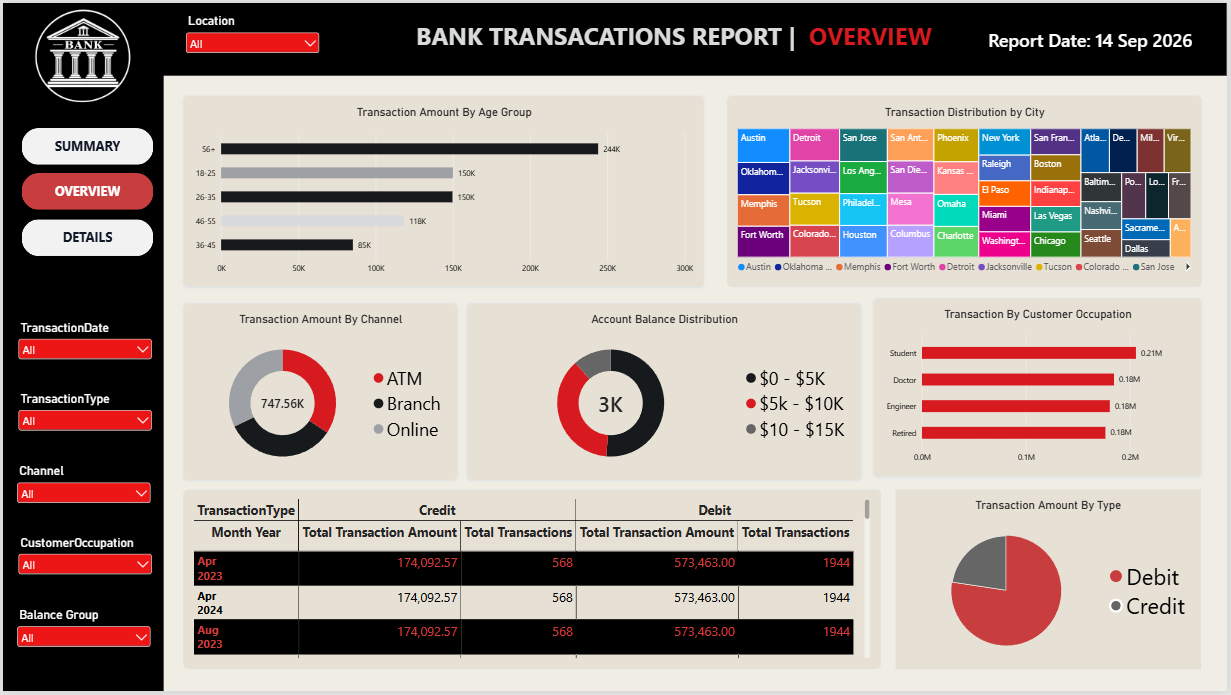

The dashboard page shown, as its layout file describes it:
{"tool":"powerbi","page":{"name":"Overview","canvas":[1920,1080],"ordinal":1},"visuals":[{"type":"pivotTable","fields":{"Columns":["Bank_Transactions.TransactionType"],"Rows":["DateTable.Month Year"],"Values":["Measures (2).Total Transaction Amount","Measures (2).Total Transactions"]},"box":[282.3,763.7,1094.8,282.3],"z":0},{"type":"donutChart","title":"Transaction Amount By Channel","fields":{"Category":["Bank_Transactions.Channel"],"Y":["Measures (2).Total Transaction Amount"]},"box":[282.3,470.5,430.7,278.7],"z":3000},{"type":"clusteredBarChart","title":"Transaction By Customer Occupation","fields":{"Category":["Bank_Transactions.CustomerOccupation"],"Y":["Measures (2).Total Transaction Amount"]},"box":[1364.5,463.3,515.8,280.5],"z":4000},{"type":"clusteredBarChart","title":"Transaction Amount By Age Group","fields":{"Category":["Bank_Transactions.Age Group"],"Y":["Measures (2).Total Transaction Amount"]},"box":[282.3,144.8,818,300.4],"z":5000},{"type":"donutChart","title":"Account Balance Distribution","fields":{"Category":["Bank_Transactions.Balance Group"],"Y":["Measures (2).Total Transactions"]},"box":[727.5,470.5,618.9,278.7],"z":6000},{"type":"shape","box":[0,0,252,1080.4],"z":7000},{"type":"shape","box":[251.5,0,1668.5,114],"z":8000},{"type":"textbox","box":[647.9,25.3,810.7,61.5],"z":9000},{"type":"image","box":[7.2,9,237.1,150.2],"z":10000},{"type":"slicer","fields":{"Values":["Bank_Transactions.TransactionType"]},"box":[19.9,610.3,219,81.4],"z":10001},{"type":"slicer","fields":{"Values":["Bank_Transactions.Channel"]},"box":[18.1,723,219,81.4],"z":10002},{"type":"slicer","fields":{"Values":["Bank_Transactions.CustomerOccupation"]},"box":[19.9,835.6,219,81.4],"z":10003},{"type":"slicer","fields":{"Values":["Bank_Transactions.Balance Group"]},"box":[18.1,948.3,219,76],"z":10004},{"type":"slicer","fields":{"Values":["Bank_Transactions.Location"]},"box":[282.3,18.1,219,76],"z":10005},{"type":"slicer","fields":{"Values":["Bank_Transactions.TransactionDate"]},"box":[19.9,497.7,219,81.4],"z":10006},{"type":"actionButton","box":[29,195.4,206.3,57.9],"z":10007},{"type":"actionButton","box":[29,266,206.3,57.9],"z":10008},{"type":"actionButton","box":[29,338.4,206.3,57.9],"z":10009},{"type":"pieChart","title":" Transaction Amount By Type","fields":{"Category":["Bank_Transactions.TransactionType"],"Y":["Measures (2).Total Transactions"]},"box":[1400.7,763.7,479.6,282.3],"z":10010},{"type":"treemap","title":"Transaction Distribution by City","fields":{"Group":["Bank_Transactions.Location"],"Values":["Measures (2).Total Transaction Amount"]},"box":[1134.7,144.8,745.6,300.4],"z":10011},{"type":"cardVisual","fields":{"Data":["Measures (2).Report Date"]},"box":[1529.2,9,361.9,95.9],"z":10012}]}

Visuals, with their boxes in screenshot pixels (x1, y1, x2, y2), scaled from the page's 1920x1080 canvas onto the 1231x695 screenshot:
pivotTable - Bank_Transactions.TransactionType x DateTable.Month Year: 181, 491, 883, 673
"Transaction Amount By Channel" donutChart: 181, 303, 457, 482
"Transaction By Customer Occupation" clusteredBarChart: 875, 298, 1206, 479
"Transaction Amount By Age Group" clusteredBarChart: 181, 93, 705, 286
"Account Balance Distribution" donutChart: 466, 303, 863, 482
shape: 0, 0, 162, 694
shape: 161, 0, 1230, 73
textbox: 415, 16, 935, 56
image: 5, 6, 157, 102
slicer - Bank_Transactions.TransactionType: 13, 393, 153, 445
slicer - Bank_Transactions.Channel: 12, 465, 152, 518
slicer - Bank_Transactions.CustomerOccupation: 13, 538, 153, 590
slicer - Bank_Transactions.Balance Group: 12, 610, 152, 659
slicer - Bank_Transactions.Location: 181, 12, 321, 61
slicer - Bank_Transactions.TransactionDate: 13, 320, 153, 373
actionButton: 19, 126, 151, 163
actionButton: 19, 171, 151, 208
actionButton: 19, 218, 151, 255
" Transaction Amount By Type" pieChart: 898, 491, 1206, 673
"Transaction Distribution by City" treemap: 728, 93, 1206, 286
cardVisual - Measures (2).Report Date: 980, 6, 1212, 68
